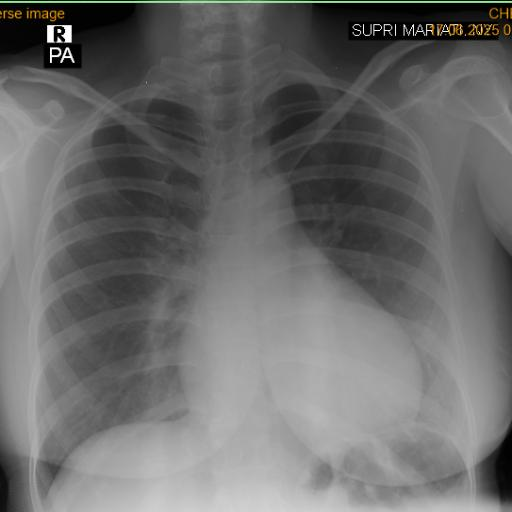kardiomegali: (22, 53, 484, 498)
